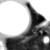node: (1, 1, 30, 38), (42, 35, 50, 45)
